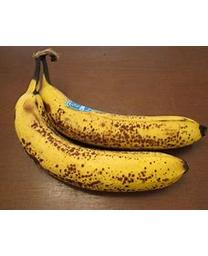banana: (12, 49, 206, 192)
